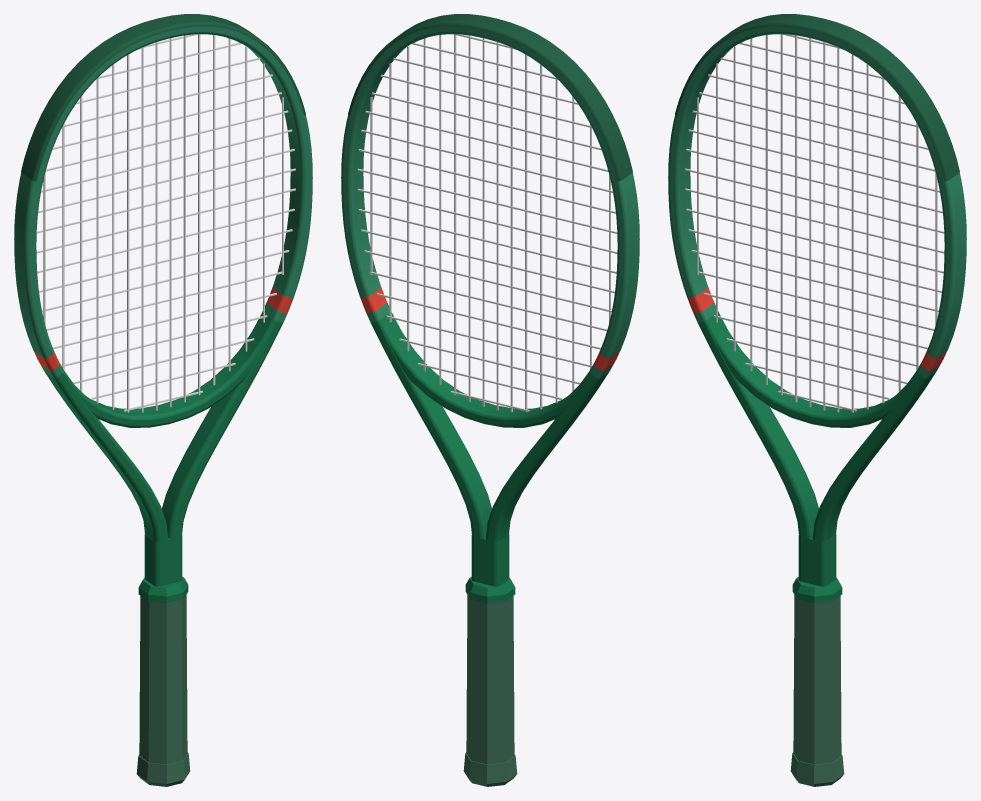
File: wilson-blade-26-v10-2026.glb
3 views of the same model, side by side, from view 1: azimuth 30°, elevation 25°; view 2: azimuth 150°, elevation 25°; view 3: azimuth 330°, elevation 25° (orthographic).
Visible parts, largest first — view 1: frame, strings_mains, strings_crosses, grip, bumper, butt_cap, collar; view 2: frame, strings_mains, strings_crosses, grip, bumper, butt_cap, collar; view 3: frame, strings_mains, strings_crosses, grip, bumper, butt_cap, collar.
Part boxes in pixels (bbox=[...]): frame: bbox=[14, 26, 312, 586]; strings_mains: bbox=[43, 34, 283, 412]; strings_crosses: bbox=[36, 34, 295, 411]; grip: bbox=[139, 595, 187, 764]; bumper: bbox=[21, 14, 305, 181]; butt_cap: bbox=[136, 752, 190, 786]; collar: bbox=[138, 577, 188, 603]; frame: bbox=[341, 26, 639, 586]; strings_mains: bbox=[370, 34, 610, 412]; strings_crosses: bbox=[357, 34, 617, 411]; grip: bbox=[466, 595, 514, 764]; bumper: bbox=[348, 14, 632, 181]; butt_cap: bbox=[463, 752, 517, 786]; collar: bbox=[465, 577, 515, 603]; frame: bbox=[668, 26, 966, 586]; strings_mains: bbox=[697, 34, 937, 412]; strings_crosses: bbox=[685, 34, 944, 411]; grip: bbox=[793, 595, 841, 764]; bumper: bbox=[675, 14, 959, 181]; butt_cap: bbox=[790, 752, 844, 786]; collar: bbox=[792, 577, 842, 603].
Size of the model in its own units: 0.264 by 0.6607 by 0.0396.
